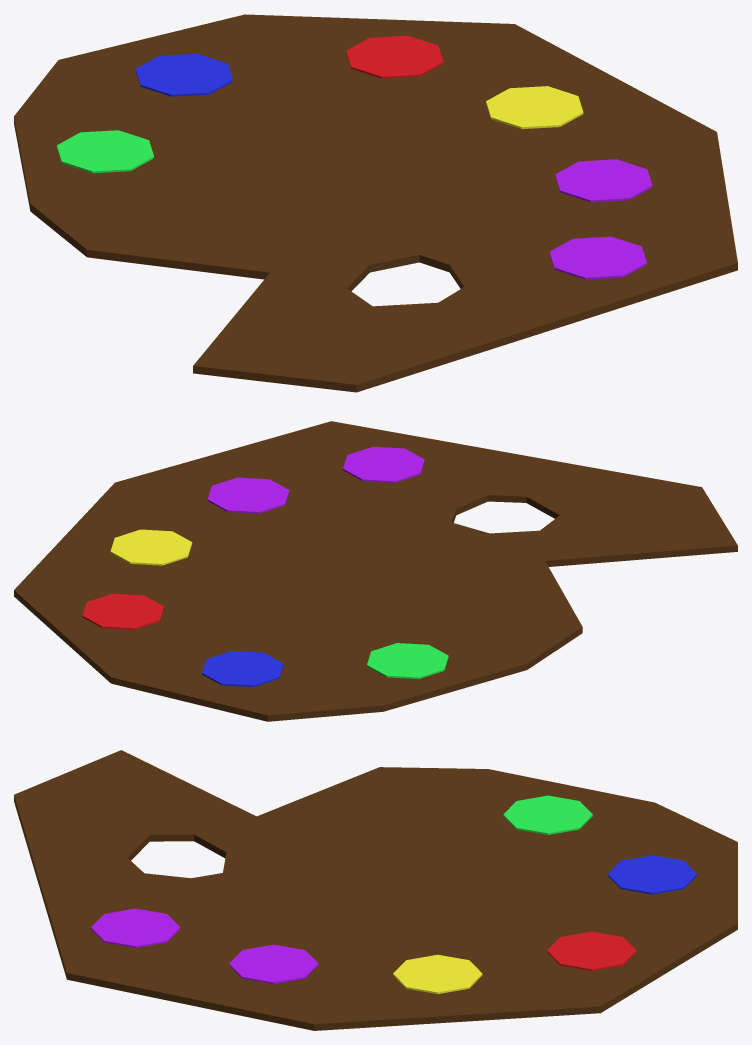
The model's file is paint_palette.glb.
3 views of the same model, one above another, from view 1: azimuth 30°, elevation 25°; view 2: azimuth 150°, elevation 25°; view 3: azimuth 270°, elevation 25° (orthographic). The views are drawn at different scales.
Parts seen in each view (by area): view 1: Palette; view 2: Palette; view 3: Palette.
Boxes of the visible parts, x1,y1,x2,y2 form: Palette: (14,14,737,392); Palette: (14,421,737,721); Palette: (14,750,737,1030).
Size of the model in its own units: 1.74 by 0.0252 by 1.94.
